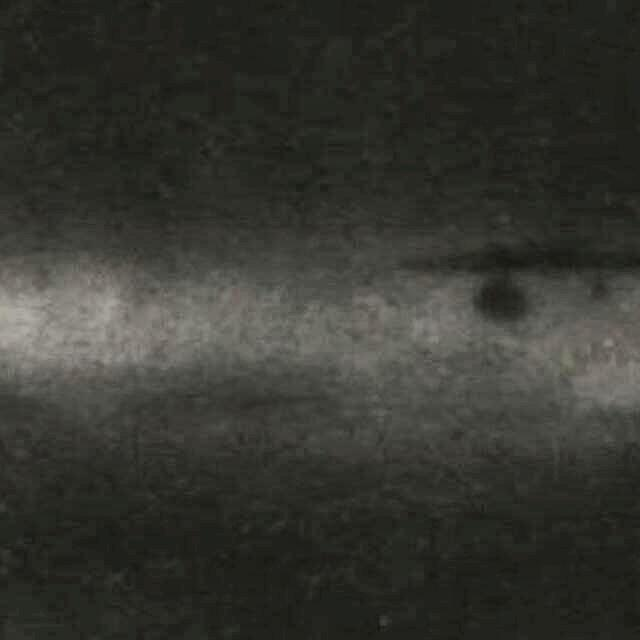Slag: (364, 226, 635, 350)
